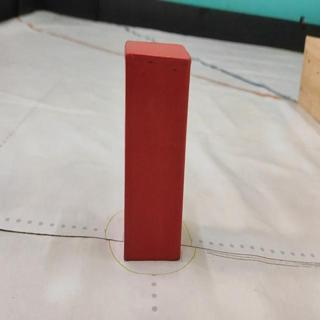redbox: (125, 39, 192, 261)
